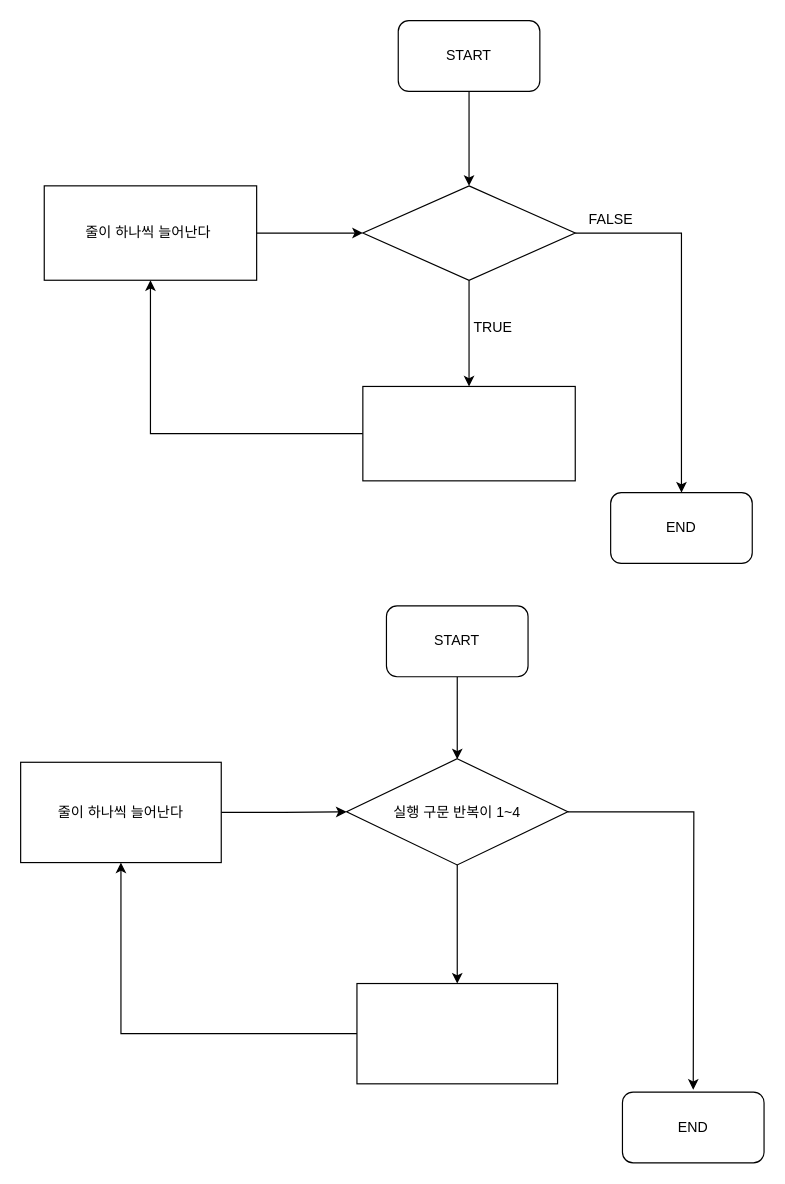
This 785x1184 diagram has some shape labels left out. Here are the shapes that lost their labels. From the top down, the centre of each, then its label:
point 468,232: 실행 구문 반복이 1~8
point 468,433: (***********) 줄이 생긴다
point 457,1033: ( | | )줄이 생긴다
